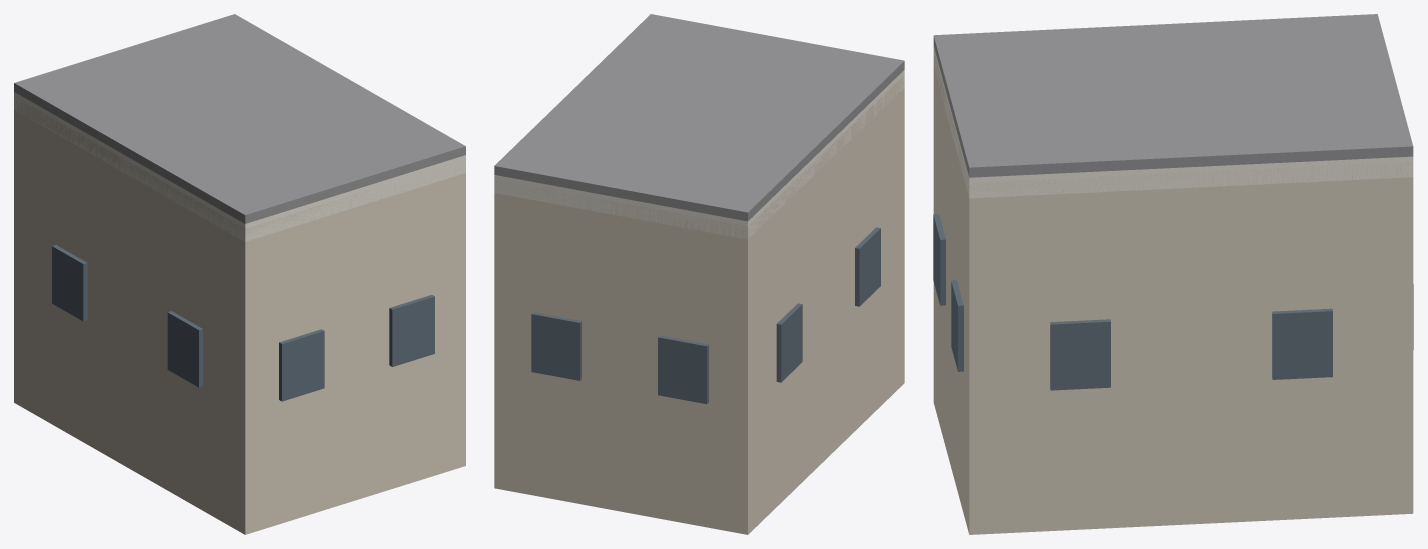
Rendered from s60_gis_248232_820881.glb.
The picture shows the model from 3 angles, left to right: view 1: azimuth 30°, elevation 25°; view 2: azimuth 150°, elevation 25°; view 3: azimuth 270°, elevation 25°; orthographic projection. The views are drawn at different scales.
Visible parts, largest first — view 1: mass, roofcap, cornice, win_2_0_0, win_2_0_1, win_1_0_1, win_1_0_0; view 2: mass, roofcap, cornice, win_0_0_0, win_0_0_1, win_1_0_0, win_1_0_1; view 3: mass, roofcap, cornice, win_3_0_0, win_3_0_1, win_2_0_1, win_2_0_0.
Boxes of the visible parts, <box> form: mass: <box>14,101,465,534</box>; roofcap: <box>14,14,465,223</box>; cornice: <box>14,92,465,241</box>; win_2_0_0: <box>279,329,324,401</box>; win_2_0_1: <box>389,295,434,366</box>; win_1_0_1: <box>167,311,202,387</box>; win_1_0_0: <box>52,245,87,321</box>; mass: <box>494,75,904,534</box>; roofcap: <box>494,14,904,221</box>; cornice: <box>494,70,904,239</box>; win_0_0_0: <box>531,312,581,380</box>; win_0_0_1: <box>658,335,708,404</box>; win_1_0_0: <box>776,303,802,382</box>; win_1_0_1: <box>855,227,880,306</box>; mass: <box>933,55,1413,534</box>; roofcap: <box>933,14,1413,177</box>; cornice: <box>933,46,1413,198</box>; win_3_0_0: <box>1050,319,1110,390</box>; win_3_0_1: <box>1272,308,1332,379</box>; win_2_0_1: <box>951,280,963,371</box>; win_2_0_0: <box>933,214,945,305</box>.
Size of the model in its own units: 7.49 by 8.35 by 9.89.
